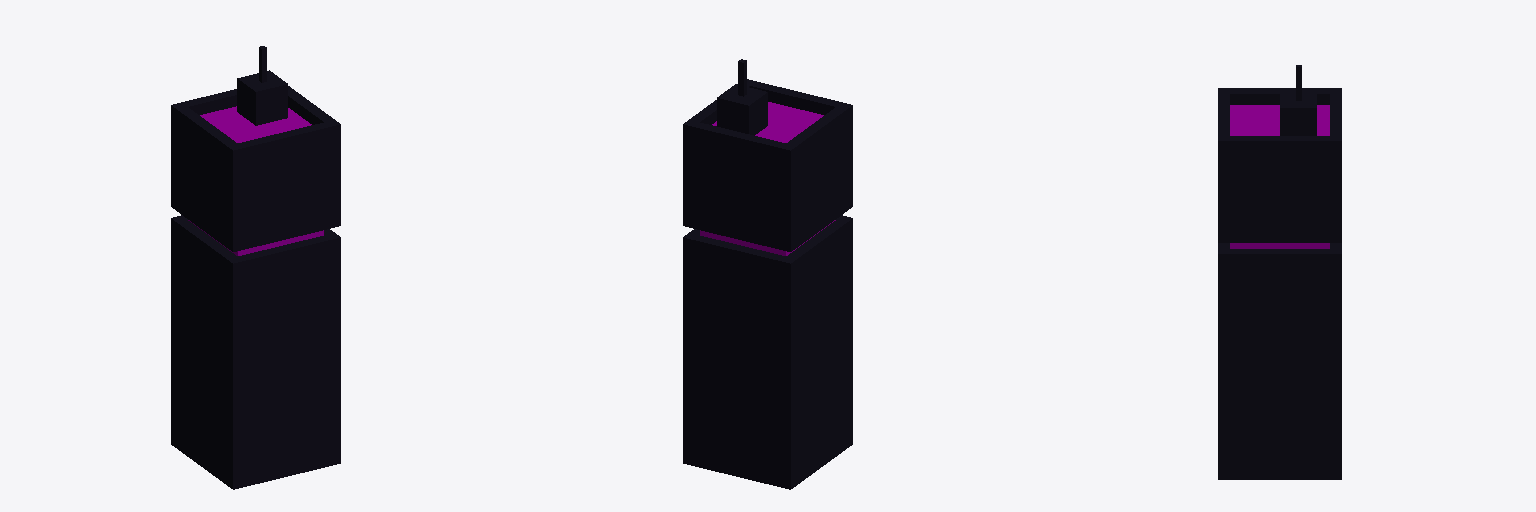
File: low_buildingI_CyPk.obj
3 views of the same model, side by side, from view 1: azimuth 30°, elevation 25°; view 2: azimuth 150°, elevation 25°; view 3: azimuth 270°, elevation 25° (orthographic).
Visible parts, largest first — view 1: low_buildingI; view 2: low_buildingI; view 3: low_buildingI.
Boxes of the visible parts, <box> form: low_buildingI: <box>171,46,340,489</box>; low_buildingI: <box>683,59,852,489</box>; low_buildingI: <box>1218,65,1341,479</box>.
Size of the model in its own units: 0.5 by 1.75 by 0.5.